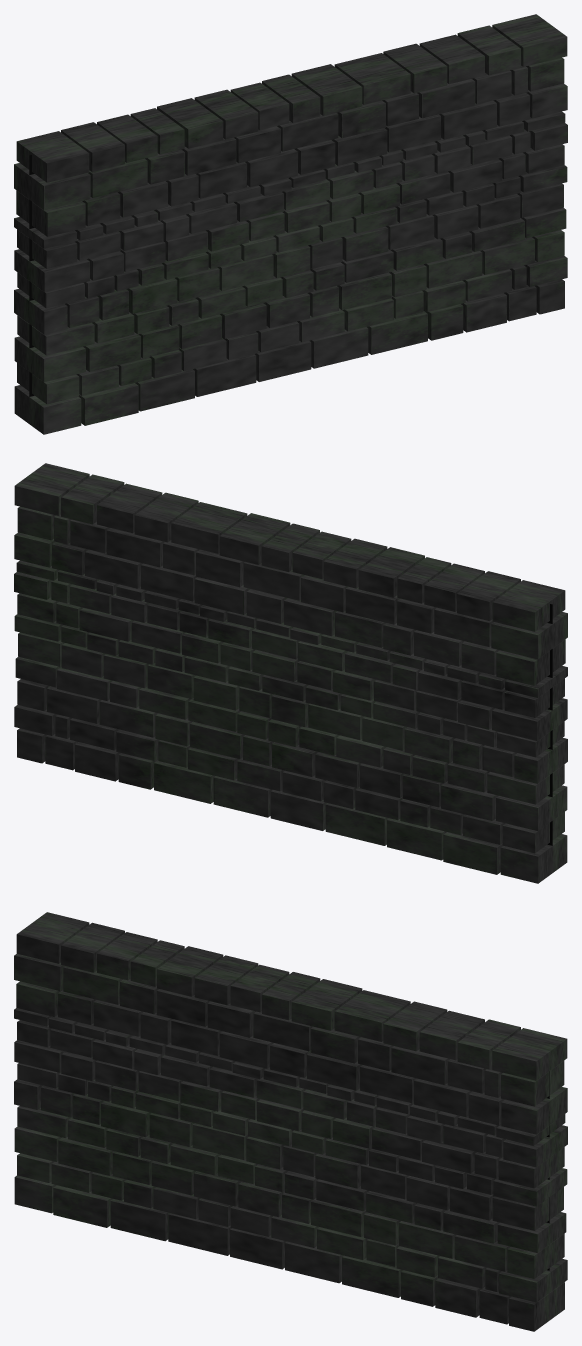
The model's file is Stone Wall.fbx.
The picture shows the model from 3 angles, top to bottom: view 1: azimuth 30°, elevation 25°; view 2: azimuth 150°, elevation 25°; view 3: azimuth 330°, elevation 25°; orthographic projection.
Visible parts, largest first — view 1: Plane.002; view 2: Plane.002; view 3: Plane.002.
Part boxes in pixels (bbox=[...]): Plane.002: bbox=[14, 14, 567, 434]; Plane.002: bbox=[14, 463, 567, 883]; Plane.002: bbox=[14, 912, 567, 1331].
Bounding box in the file's own units: 205 × 101 × 21.48.
